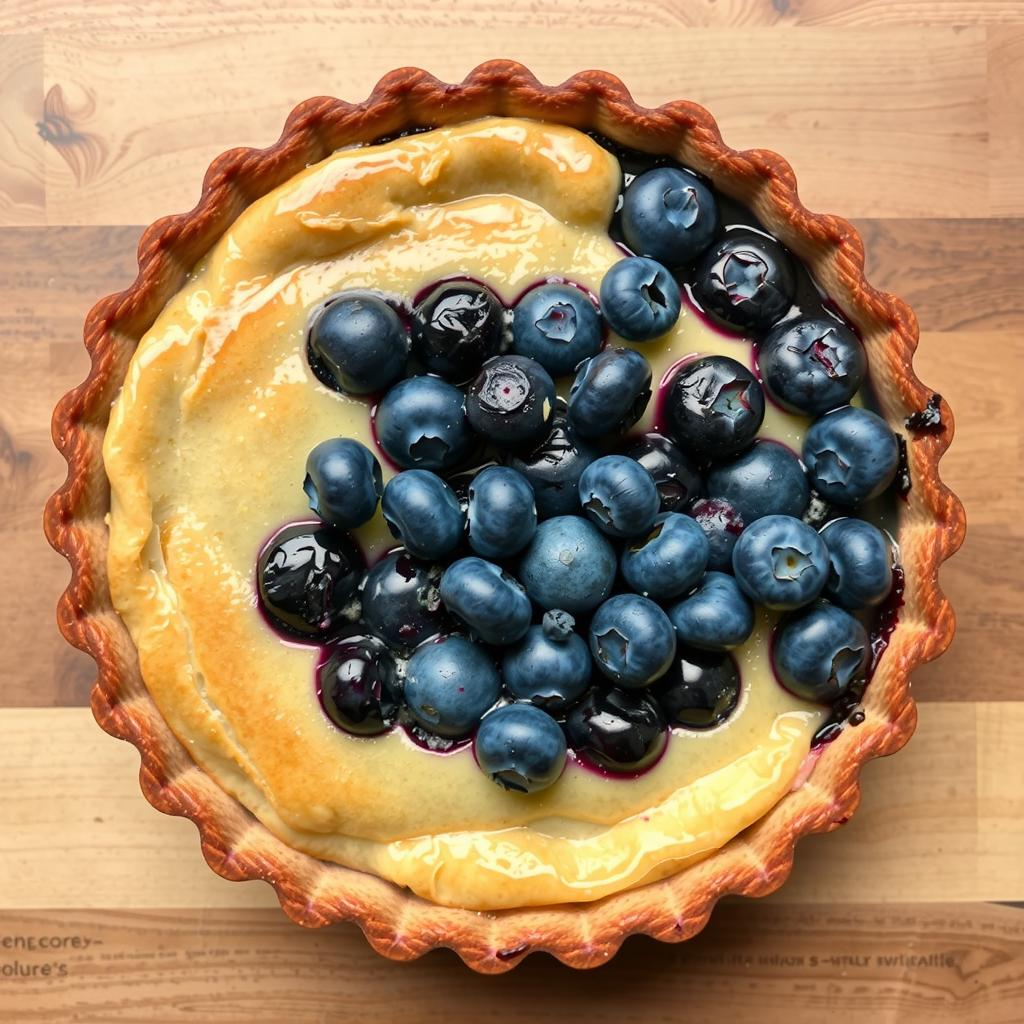pie: (40, 50, 973, 980)
